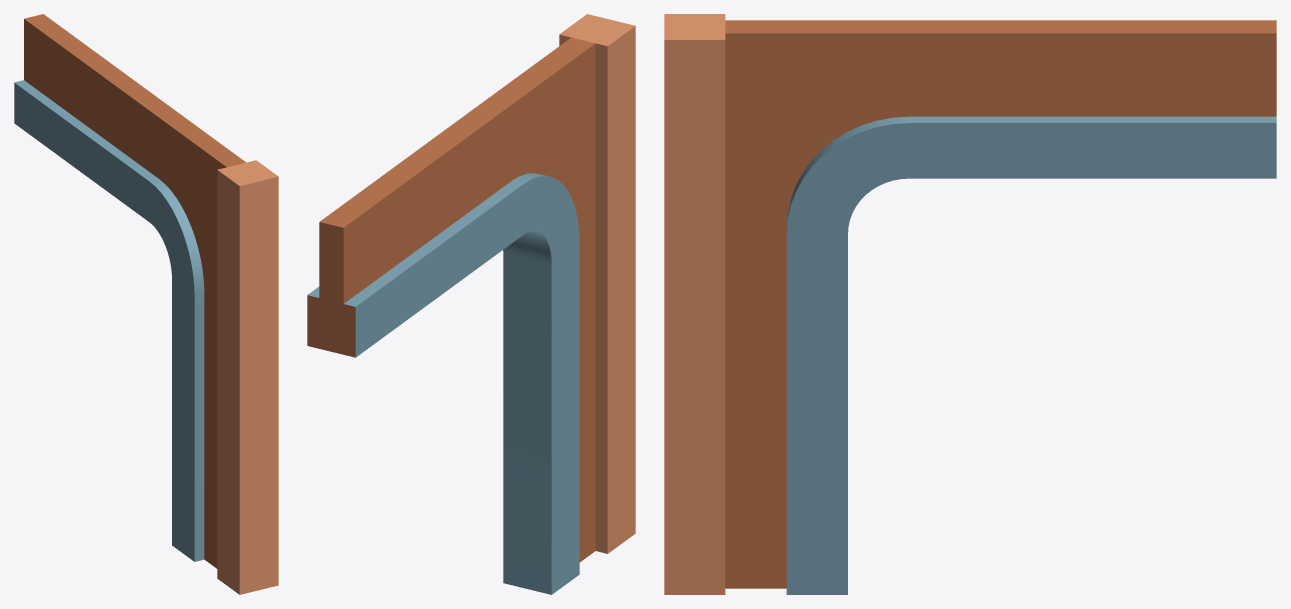
Rendered from wallWoodDoorwaySquareWideCurved.glb.
3 views of the same model, side by side, from view 1: azimuth 30°, elevation 25°; view 2: azimuth 150°, elevation 25°; view 3: azimuth 270°, elevation 25° (orthographic). The views are drawn at different scales.
Visible parts, largest first — view 1: wallWoodDoorwaySquareWideCurved; view 2: wallWoodDoorwaySquareWideCurved; view 3: wallWoodDoorwaySquareWideCurved.
Boxes of the visible parts, x1=… form: wallWoodDoorwaySquareWideCurved: x1=14, y1=14, x2=278, y2=594; wallWoodDoorwaySquareWideCurved: x1=307, y1=14, x2=635, y2=594; wallWoodDoorwaySquareWideCurved: x1=664, y1=14, x2=1276, y2=594.
Bounding box in the file's own units: 0.3 × 3 × 3.
